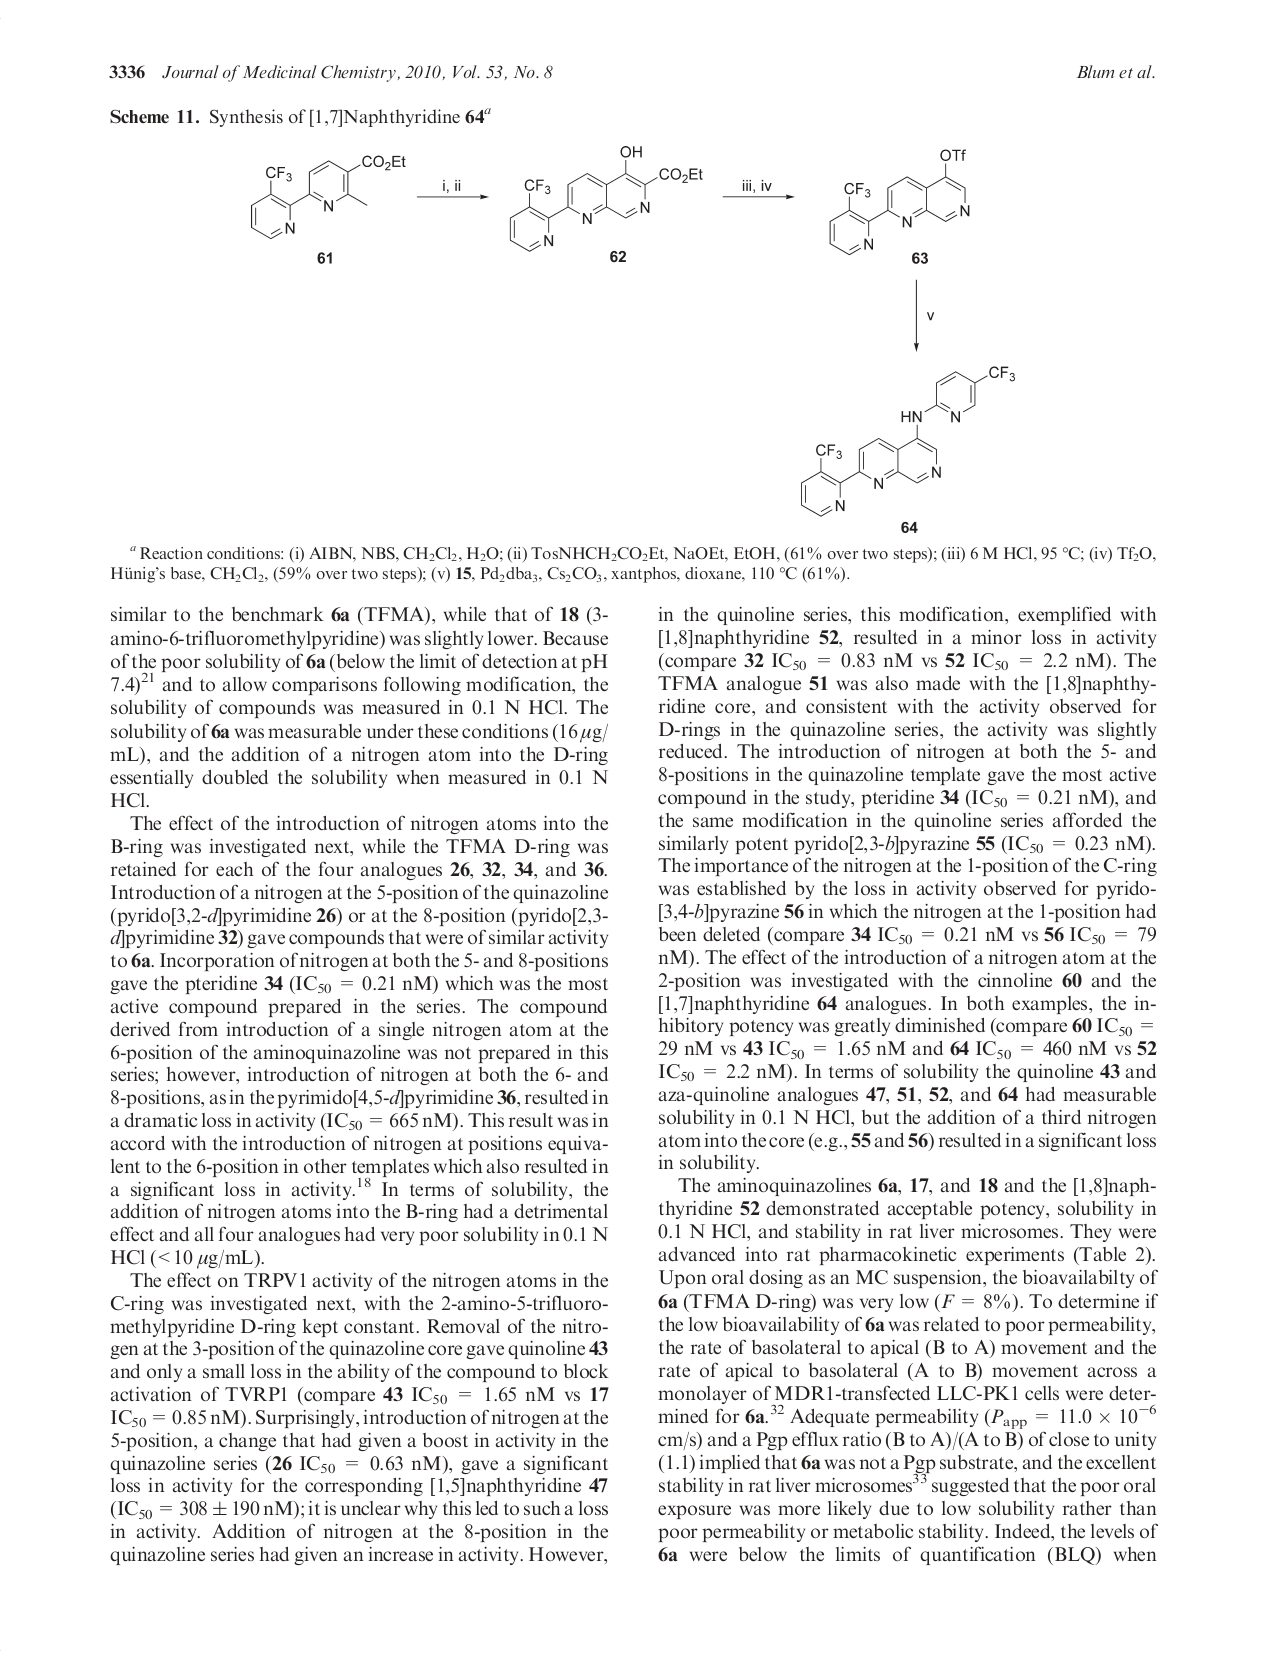exist_molecular: (797, 354, 1020, 519), (505, 149, 693, 254), (824, 144, 973, 254), (246, 149, 410, 239)
